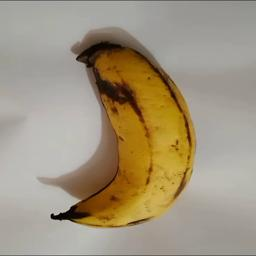Banana Semifresh: (49, 37, 199, 231)
